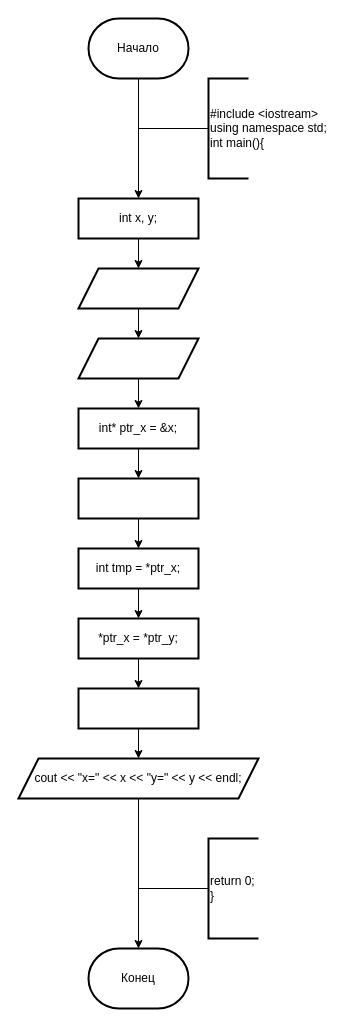
The diagram is 344 pixels wide and 1026 high, and some of its shapes have lost their labels. The box of each missing label's shape, as (x1, y1, x2, y2) in pixels:
*ptr_y = tmp;: (77, 687, 199, 729)
cin >> x;: (77, 267, 199, 309)
cin >> y;: (77, 337, 199, 379)
int* ptr_y = &y;: (77, 477, 199, 519)
